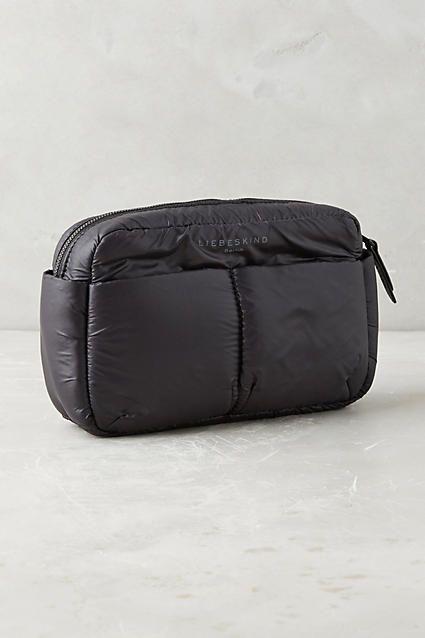nylon: (39, 198, 398, 438)
